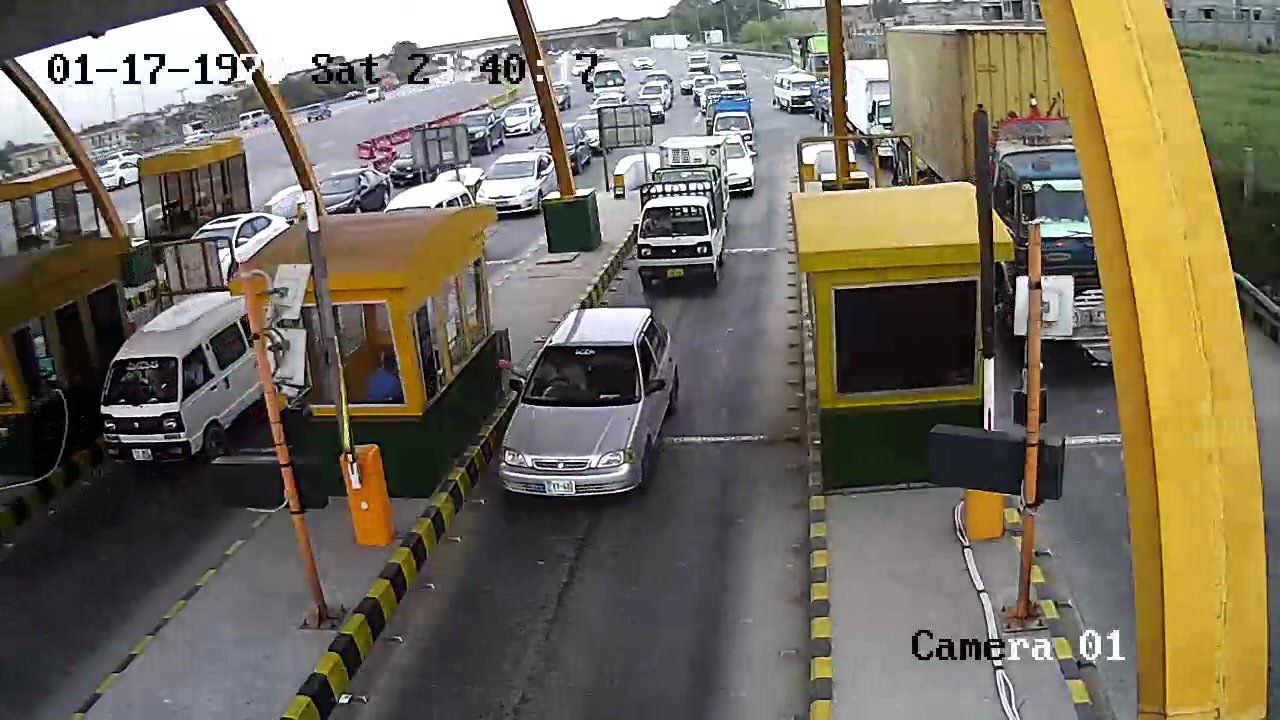F1: (490, 304, 679, 510)
